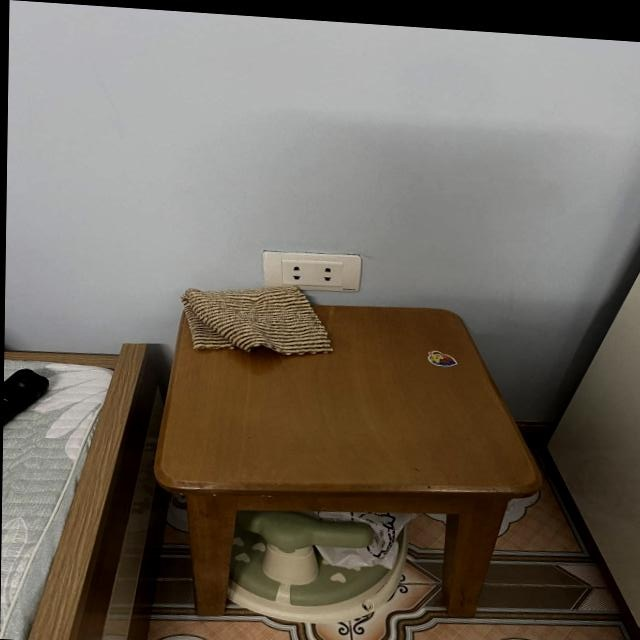outlet: (261, 249, 362, 296)
